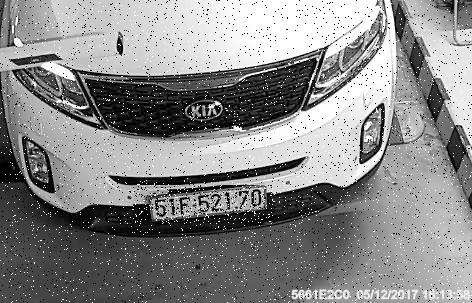License-plate: (135, 187, 275, 226)
